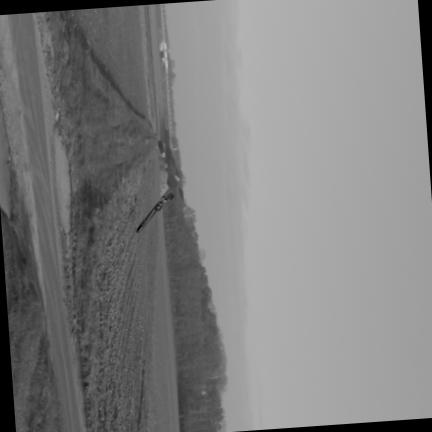Shahed: (135, 193, 174, 231)
